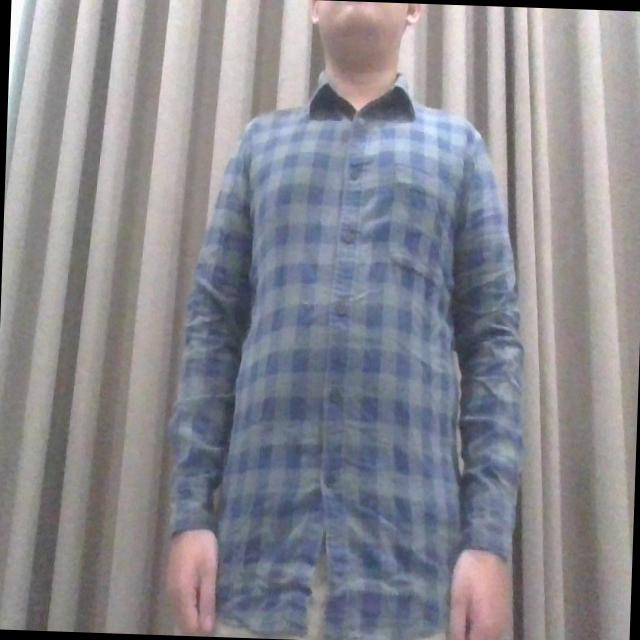long_Sleeve_shirt: (168, 83, 522, 640)
